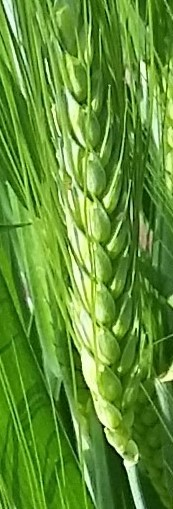Healthy Wheat: (45, 50, 148, 435)
